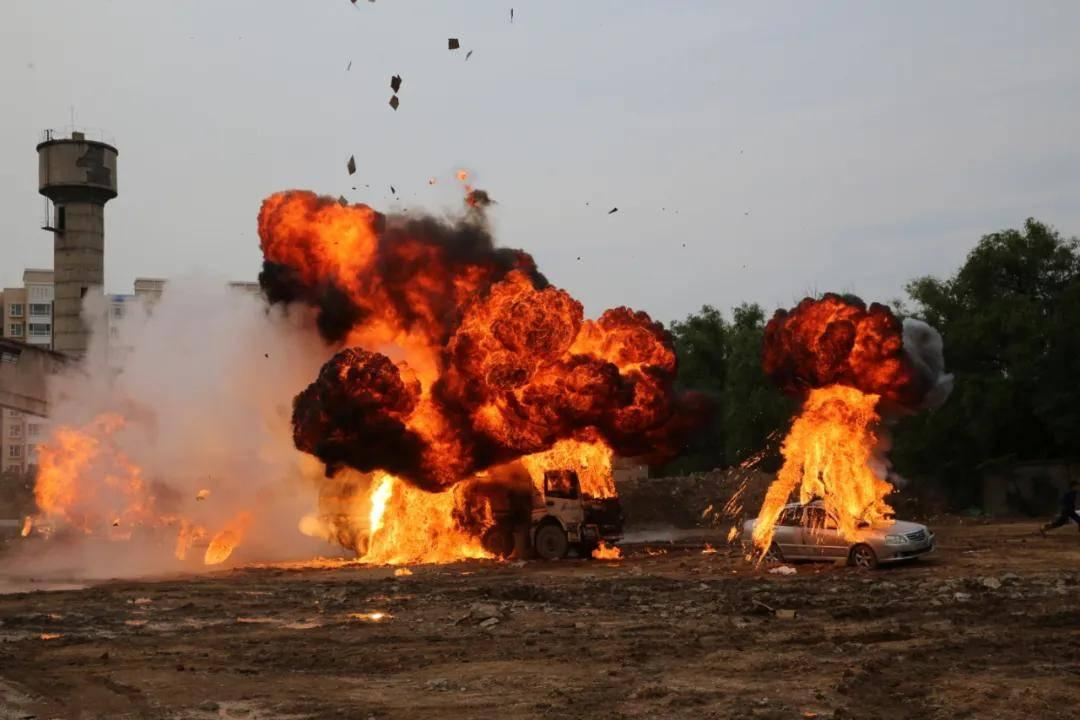fire: (197, 136, 936, 606)
